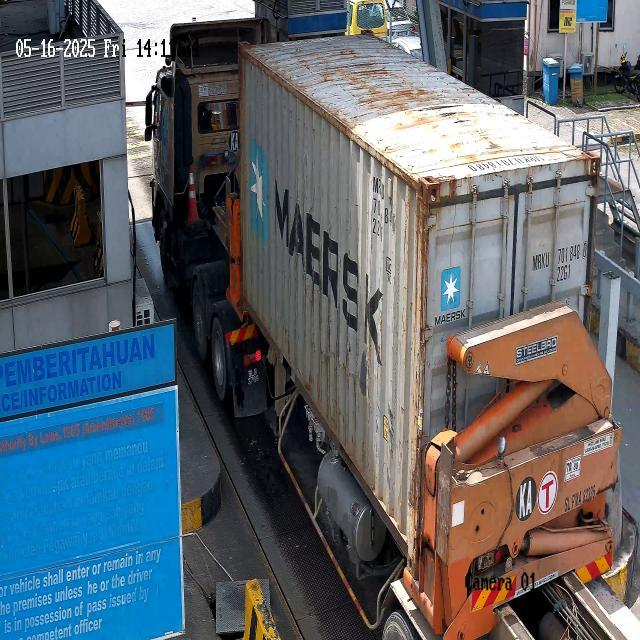ISO: (550, 258, 576, 289)
container_number: (368, 170, 402, 228), (532, 240, 586, 276)
